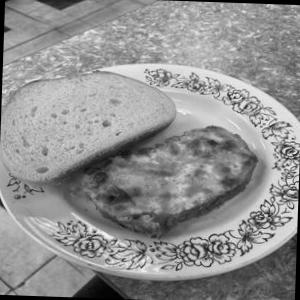bread: (0, 45, 193, 197)
cheese_sandwich: (71, 108, 272, 236)
